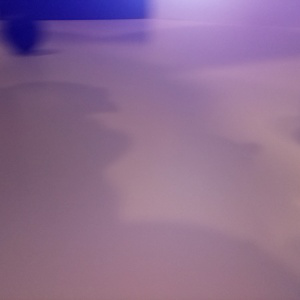dead_ball: (4, 8, 42, 51)
